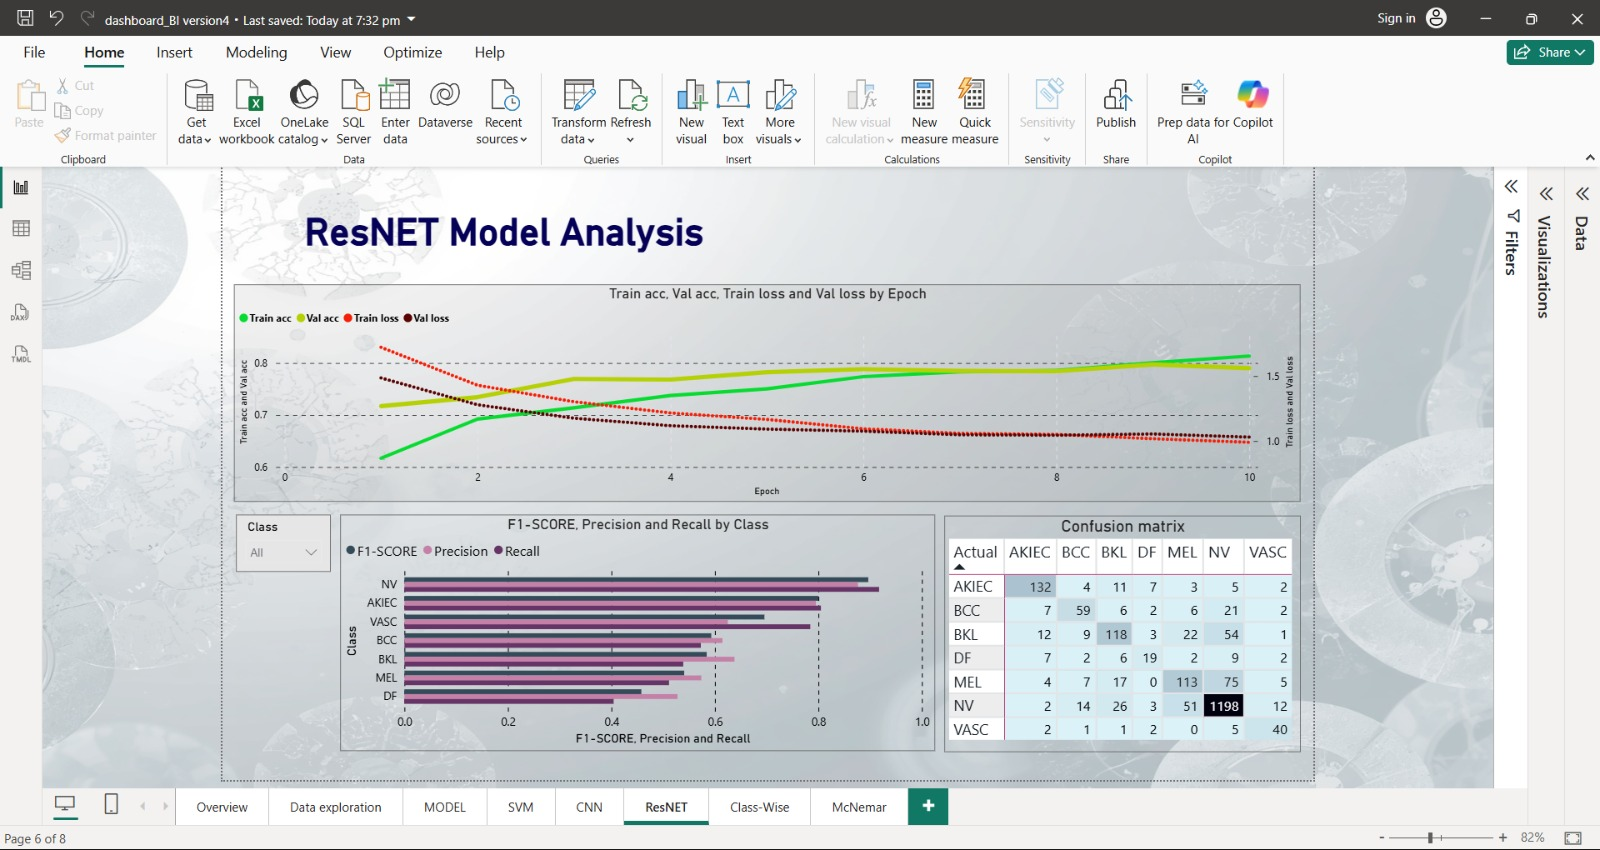

The page's visual inventory and layout, read from the dashboard file:
{"tool":"powerbi","page":{"name":"ResNET","canvas":[1280,720],"ordinal":5},"visuals":[{"type":"lineChart","fields":{"Category":["transfer_epoch_history.epoch"],"Y":["Sum(transfer_epoch_history.train_accuracy)","Sum(transfer_epoch_history.val_accuracy)"],"Y2":["Sum(transfer_epoch_history.train_loss)","Sum(transfer_epoch_history.val_loss)"]},"box":[13.5,138.2,1252.2,255.6],"z":0},{"type":"clusteredBarChart","fields":{"Category":["combined_classification_metrics.Class"],"Y":["Sum(combined_classification_metrics.resnet_f1)","Sum(combined_classification_metrics.resnet_precision)","Sum(combined_classification_metrics.resnet_recall)"]},"box":[138.2,408.4,698.2,277.6],"z":1000},{"type":"pivotTable","title":"Confusion matrix","fields":{"Rows":["combined_confusion_matrix.Actual"],"Columns":["combined_confusion_matrix.Predicted"],"Values":["Sum(combined_confusion_matrix.resnet_count)"]},"box":[847.4,409.6,418.2,277.6],"z":2000},{"type":"textbox","title":"ResNET Model Analysis","box":[91.7,50.1,695.8,57.5],"z":3000},{"type":"slicer","fields":{"Values":["combined_classification_metrics.Class"]},"box":[15.9,408.4,111.3,67.3],"z":3001}]}

Visuals, with their boxes on the page's 1280x720 design canvas (x1, y1, x2, y2). These are canvas units, not pixel positions in the 1600x850 screenshot, which may show the page scaled, cropped or inside an application window:
lineChart - transfer_epoch_history.epoch x Sum(transfer_epoch_history.train_accuracy): box(14, 138, 1266, 394)
clusteredBarChart - combined_classification_metrics.Class x Sum(combined_classification_metrics.resnet_f1): box(138, 408, 836, 686)
"Confusion matrix" pivotTable: box(847, 410, 1266, 687)
"ResNET Model Analysis" textbox: box(92, 50, 788, 108)
slicer - combined_classification_metrics.Class: box(16, 408, 127, 476)
